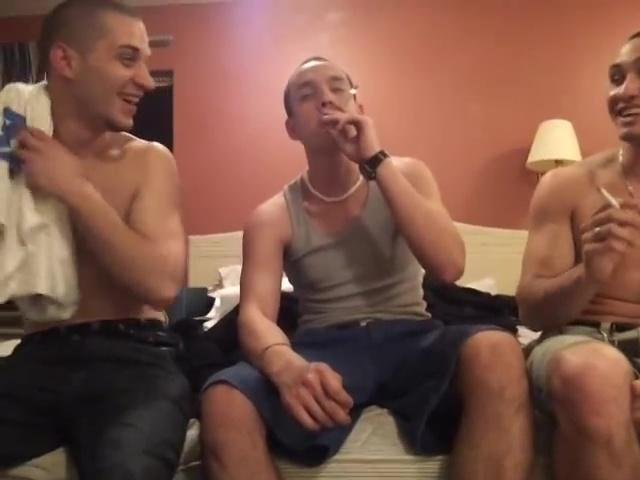cigarette: (595, 185, 625, 210), (342, 81, 360, 112)
